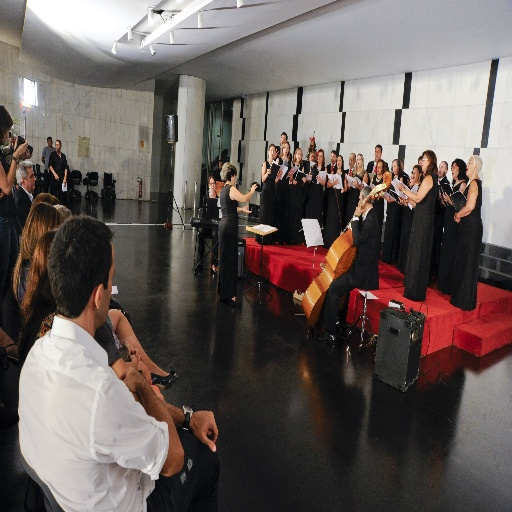hand: (177, 409, 220, 456), (118, 366, 144, 395), (12, 135, 27, 159), (125, 341, 140, 362), (353, 203, 363, 216), (441, 188, 449, 204), (394, 181, 404, 193), (249, 182, 258, 193), (286, 168, 295, 179), (129, 353, 138, 363), (242, 204, 252, 213), (452, 215, 461, 224), (316, 173, 324, 183), (330, 174, 338, 184), (350, 179, 358, 188), (277, 168, 282, 182), (302, 175, 306, 184)
